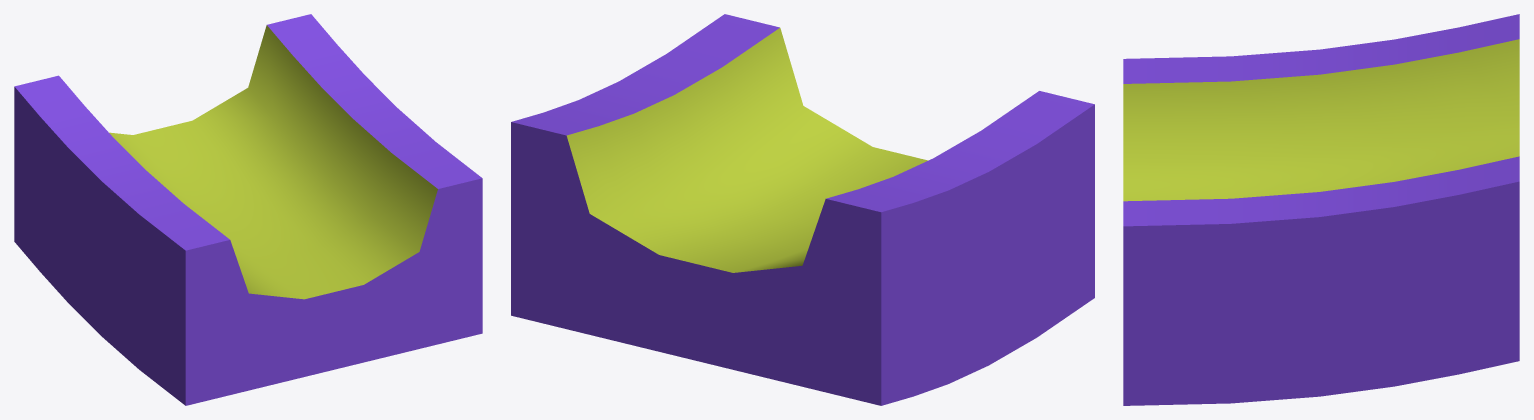
The model's file is rampStart_A-col.dae.
The picture shows the model from 3 angles, left to right: view 1: azimuth 30°, elevation 25°; view 2: azimuth 150°, elevation 25°; view 3: azimuth 270°, elevation 25°; orthographic projection. The views are drawn at different scales.
Parts seen in each view (by area): view 1: rampStart_A-col; view 2: rampStart_A-col; view 3: rampStart_A-col.
Part boxes in pixels (bbox=[...]): rampStart_A-col: bbox=[14, 14, 482, 405]; rampStart_A-col: bbox=[511, 14, 1094, 405]; rampStart_A-col: bbox=[1123, 14, 1519, 405].
Bounding box in the file's own units: 1 × 1 × 0.625.
